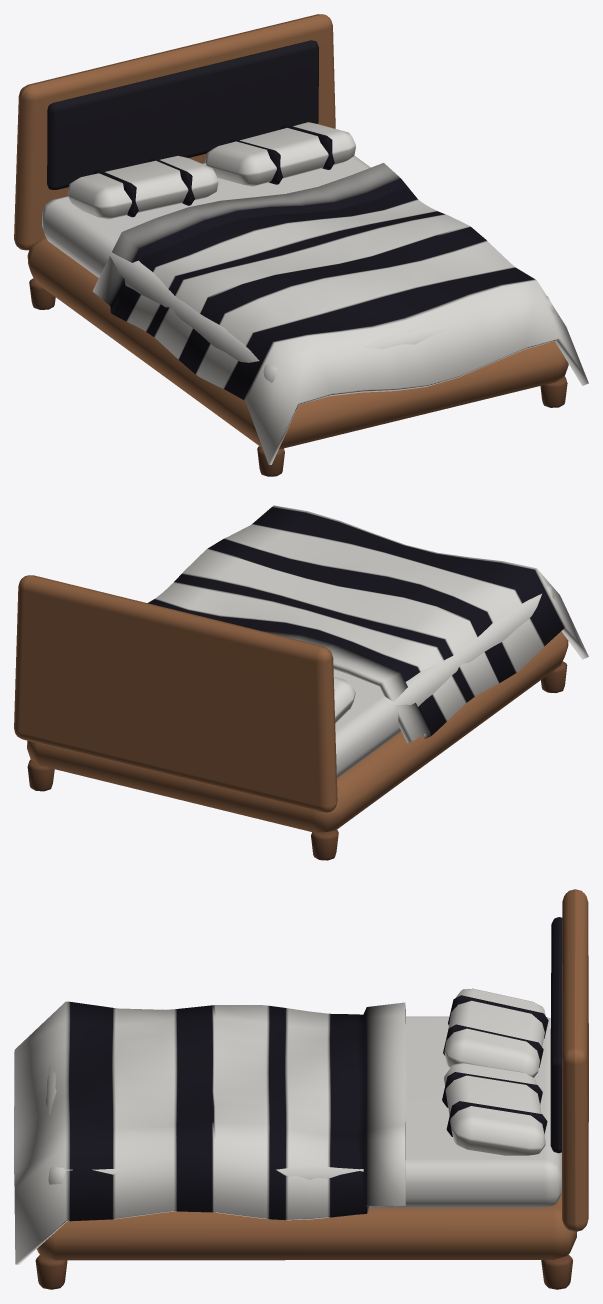
The model's file is bed.glb.
3 renders of one model, top to bottom at view 1: azimuth 30°, elevation 25°; view 2: azimuth 150°, elevation 25°; view 3: azimuth 270°, elevation 25°, orthographic. The views are drawn at different scales.
Parts seen in each view (by area): view 1: bed, blanket; view 2: bed, blanket; view 3: blanket, bed.
Part boxes in pixels (left/top/right/bottom): bed: left=14, top=14, right=568, bottom=476; blanket: left=92, top=163, right=588, bottom=464; bed: left=14, top=575, right=568, bottom=860; blanket: left=147, top=505, right=588, bottom=742; blanket: left=14, top=1001, right=405, bottom=1264; bed: left=35, top=889, right=588, bottom=1289.
Bounding box in the file's own units: 1.55 × 0.995 × 2.16.
